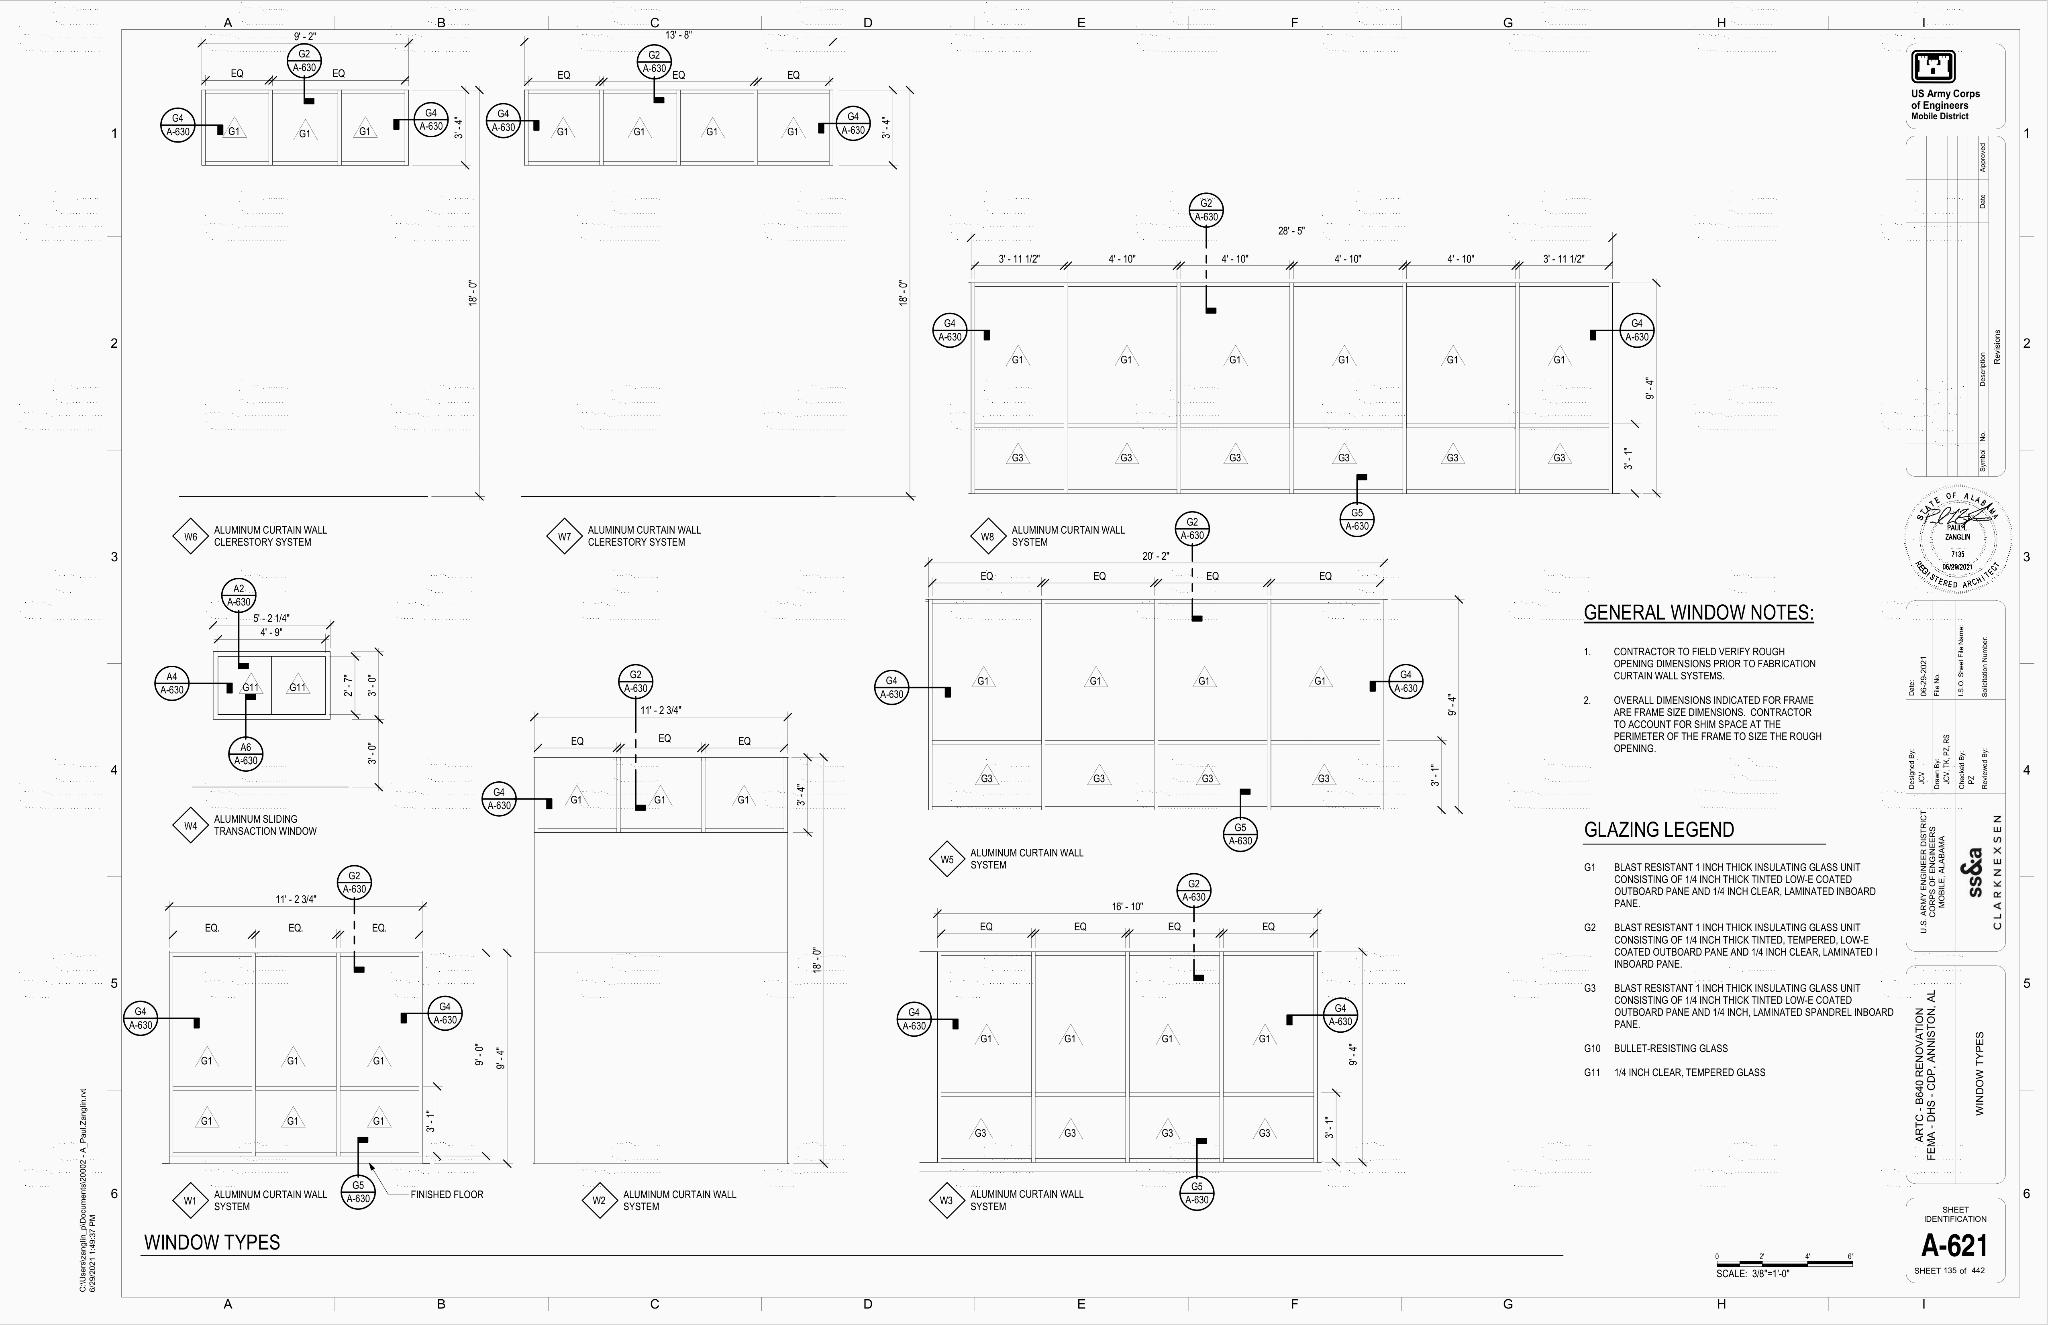detail: (615, 658, 655, 816), (1175, 868, 1218, 983), (334, 862, 376, 976), (119, 997, 205, 1043), (221, 573, 260, 673), (869, 667, 960, 709), (224, 686, 267, 773), (473, 776, 558, 819), (1176, 1133, 1220, 1215), (339, 1133, 382, 1215), (151, 662, 239, 703), (281, 37, 328, 109), (1169, 507, 1217, 579), (155, 101, 228, 148), (1282, 994, 1366, 1034), (928, 306, 1000, 352), (1336, 470, 1382, 542), (631, 40, 678, 109), (1221, 782, 1263, 856), (894, 997, 963, 1041), (1585, 309, 1658, 351), (387, 98, 454, 142), (1184, 188, 1229, 252), (397, 994, 467, 1034), (482, 98, 545, 142), (814, 104, 882, 143), (1367, 661, 1427, 701)
